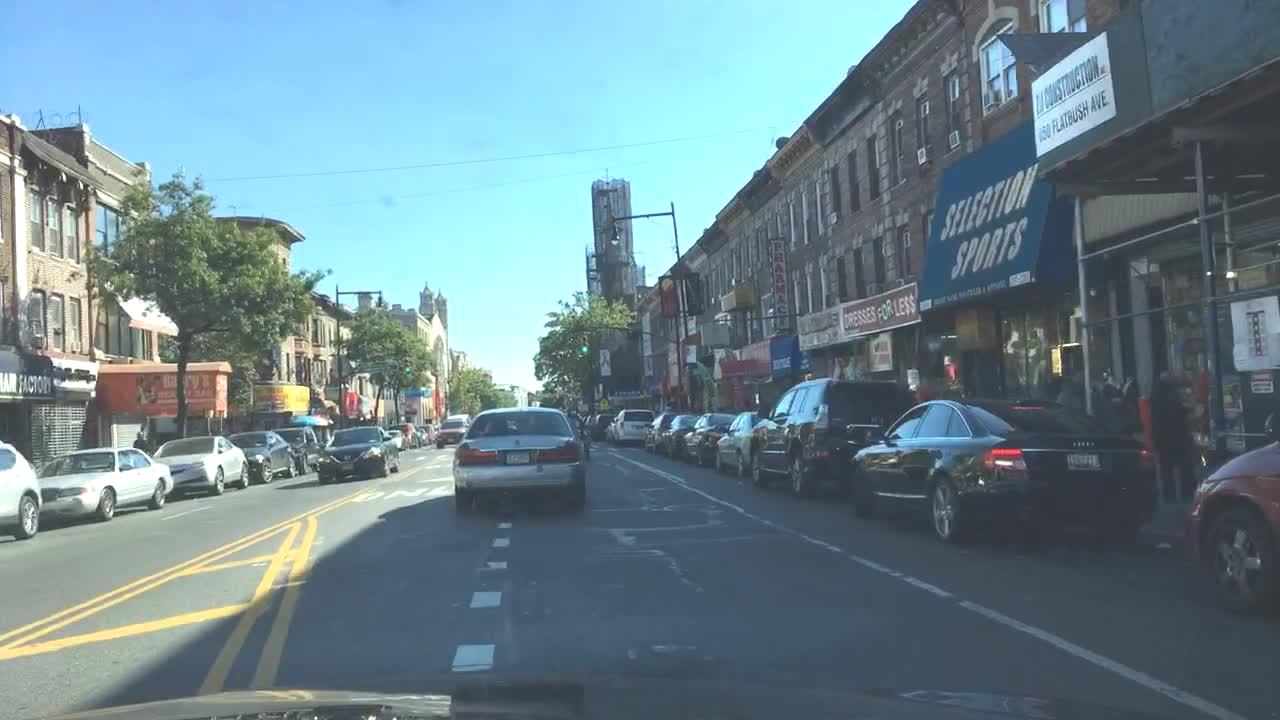Audi: (1069, 438, 1097, 451)
